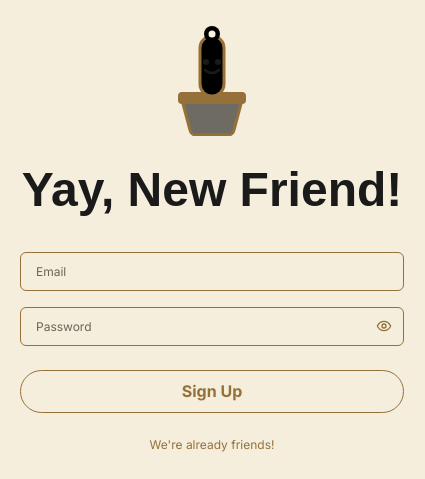
AuthForm › shows a validation error for a bad email and does not submit
The width and height of the screenshot is (425, 479).
Type "not-an-email" into the field labelled "Email" at [212, 271], box [20, 252, 404, 290]
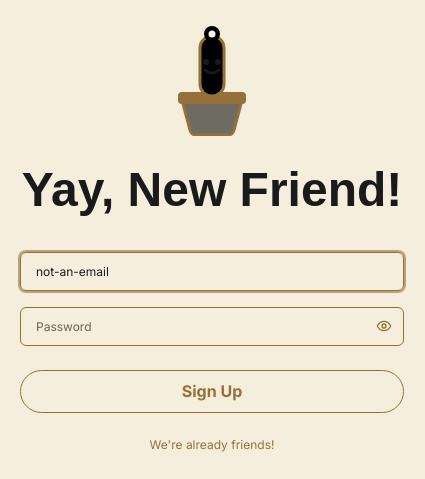
Type "supersecret" into the password field labelled "Password" at [212, 326], box [20, 306, 404, 346]
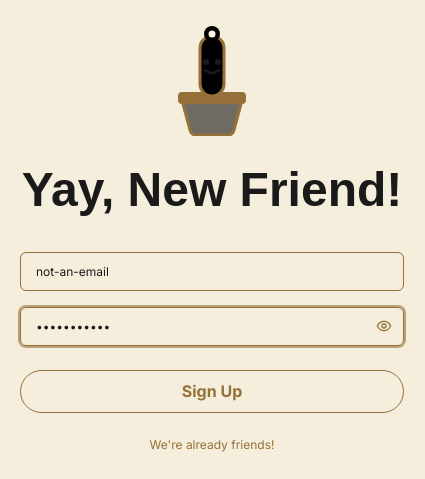
Click the button "Sign Up" at [212, 391], box [20, 370, 404, 412]
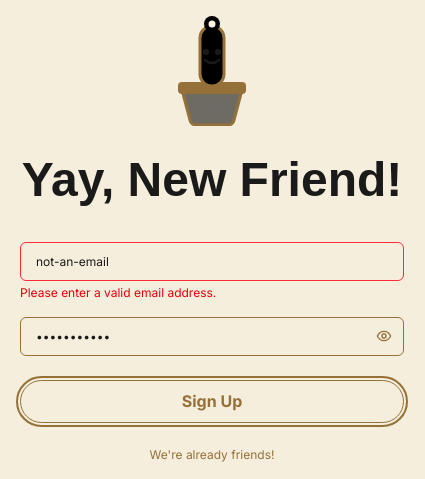
Check: the text "Please enter a valid email address." is shown, box [20, 284, 216, 300]
